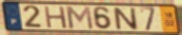2: (22, 5, 44, 29)
6: (92, 5, 113, 31)
7: (139, 6, 157, 33)
H: (43, 5, 69, 30)
M: (64, 5, 96, 31)
N: (111, 6, 140, 31)
